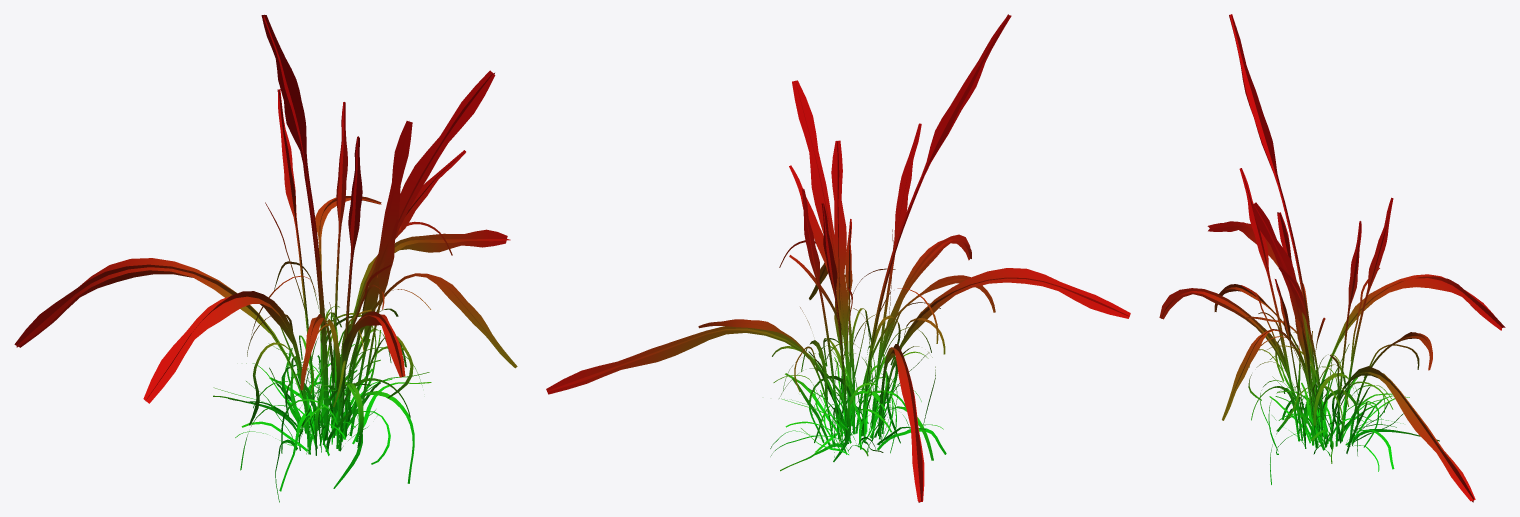
The model's file is Wheat_LOD0_Var3_smdoejyr.fbx.
3 views of the same model, side by side, from view 1: azimuth 30°, elevation 25°; view 2: azimuth 150°, elevation 25°; view 3: azimuth 270°, elevation 25° (orthographic). The views are drawn at different scales.
Visible parts, largest first — view 1: _kmhz_Var3_LOD0; view 2: _kmhz_Var3_LOD0; view 3: _kmhz_Var3_LOD0.
Part boxes in pixels (x1,y1,x2,y2): _kmhz_Var3_LOD0: (14,14,517,502); _kmhz_Var3_LOD0: (546,14,1130,502); _kmhz_Var3_LOD0: (1159,14,1505,502).
Bounding box in the file's own units: 69.62 × 65.71 × 50.65.
